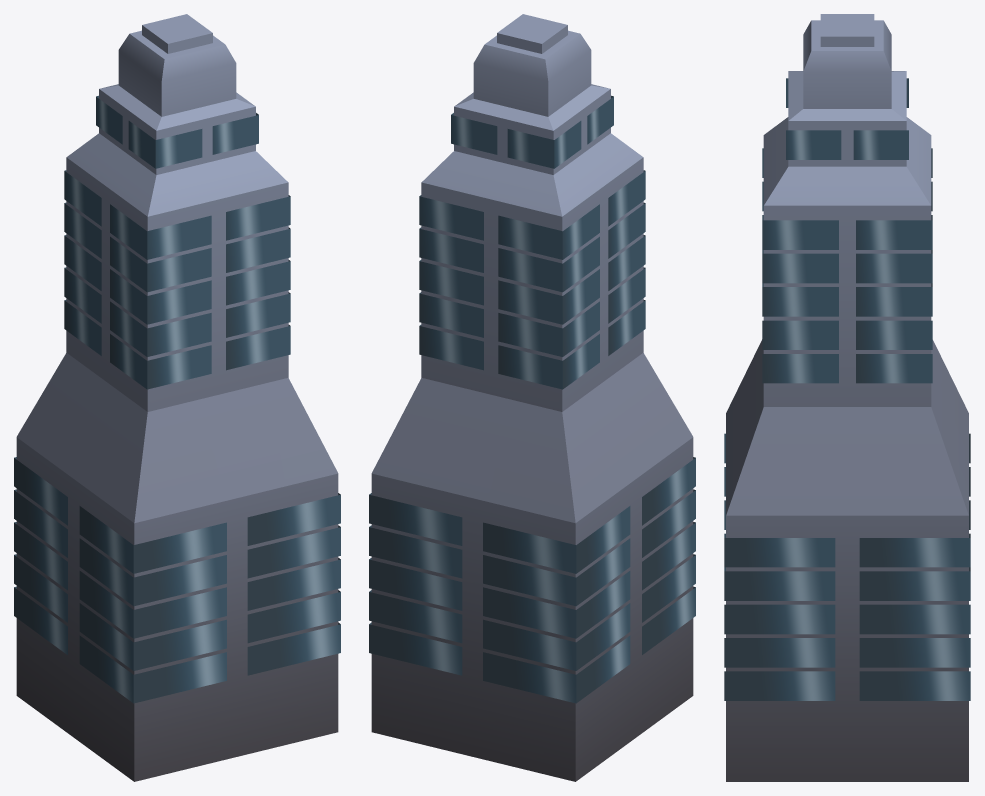
File: apartmenttower3.fbx
3 views of the same model, side by side, from view 1: azimuth 30°, elevation 25°; view 2: azimuth 150°, elevation 25°; view 3: azimuth 270°, elevation 25° (orthographic). The views are drawn at different scales.
Visible parts, largest first — view 1: polySurface25; view 2: polySurface25; view 3: polySurface25.
Boxes of the visible parts, x1,y1,x2,y2 form: polySurface25: (14, 14, 340, 781); polySurface25: (369, 14, 695, 781); polySurface25: (724, 14, 970, 781).
Size of the model in its own units: 35.29 by 111 by 35.29.
